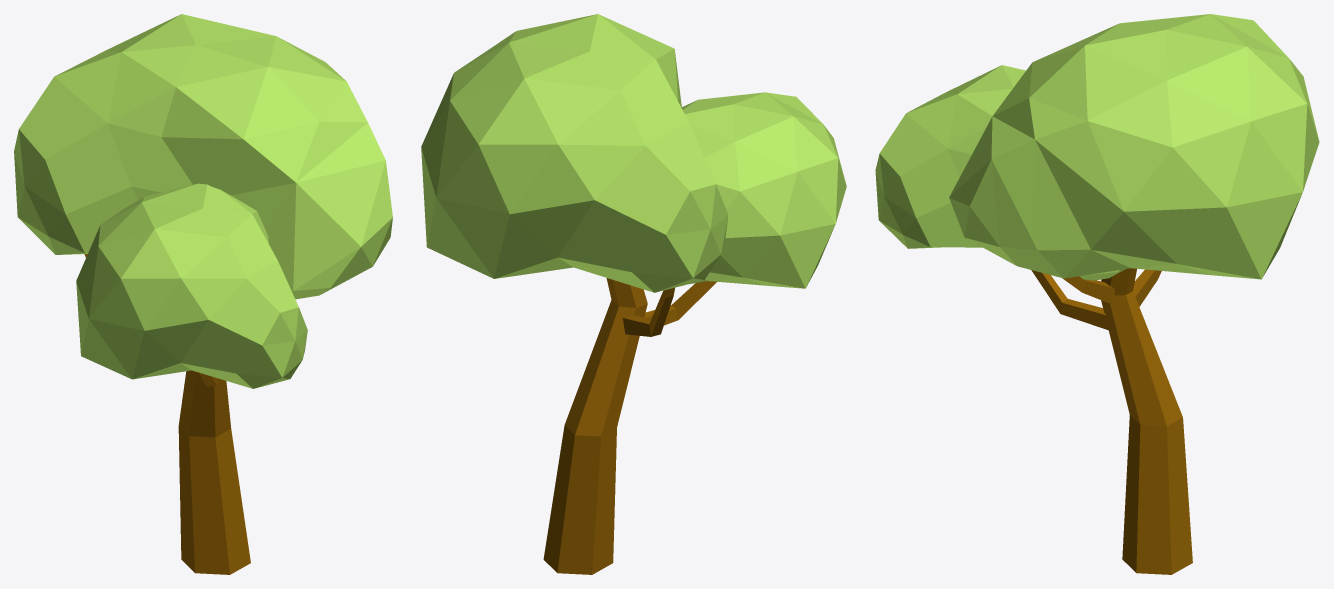
File: tree_01.glb
3 renders of one model, left to right at view 1: azimuth 30°, elevation 25°; view 2: azimuth 150°, elevation 25°; view 3: azimuth 270°, elevation 25°, orthographic.
Visible parts, largest first — view 1: Tree1; view 2: Tree1; view 3: Tree1.
Boxes of the visible parts, x1=… form: Tree1: x1=14, y1=14, x2=392, y2=574; Tree1: x1=421, y1=14, x2=846, y2=574; Tree1: x1=875, y1=14, x2=1319, y2=574.
Size of the model in its own units: 13.29 by 20.05 by 15.41.
